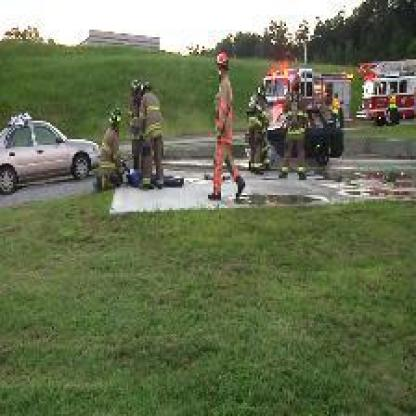other: (348, 49, 408, 118), (258, 53, 300, 120)
